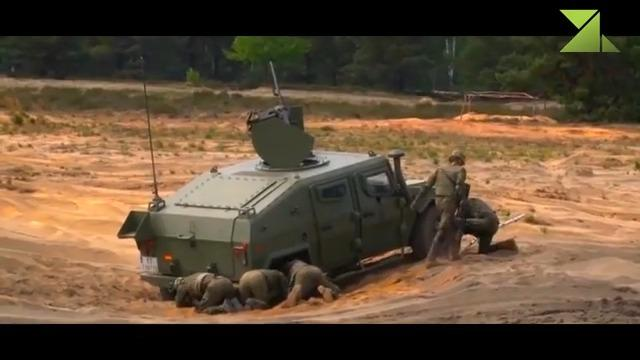MIL_HMMWV: (119, 140, 436, 302), (408, 150, 468, 269), (463, 199, 522, 258), (171, 273, 240, 313), (286, 260, 341, 305), (238, 266, 285, 308)
